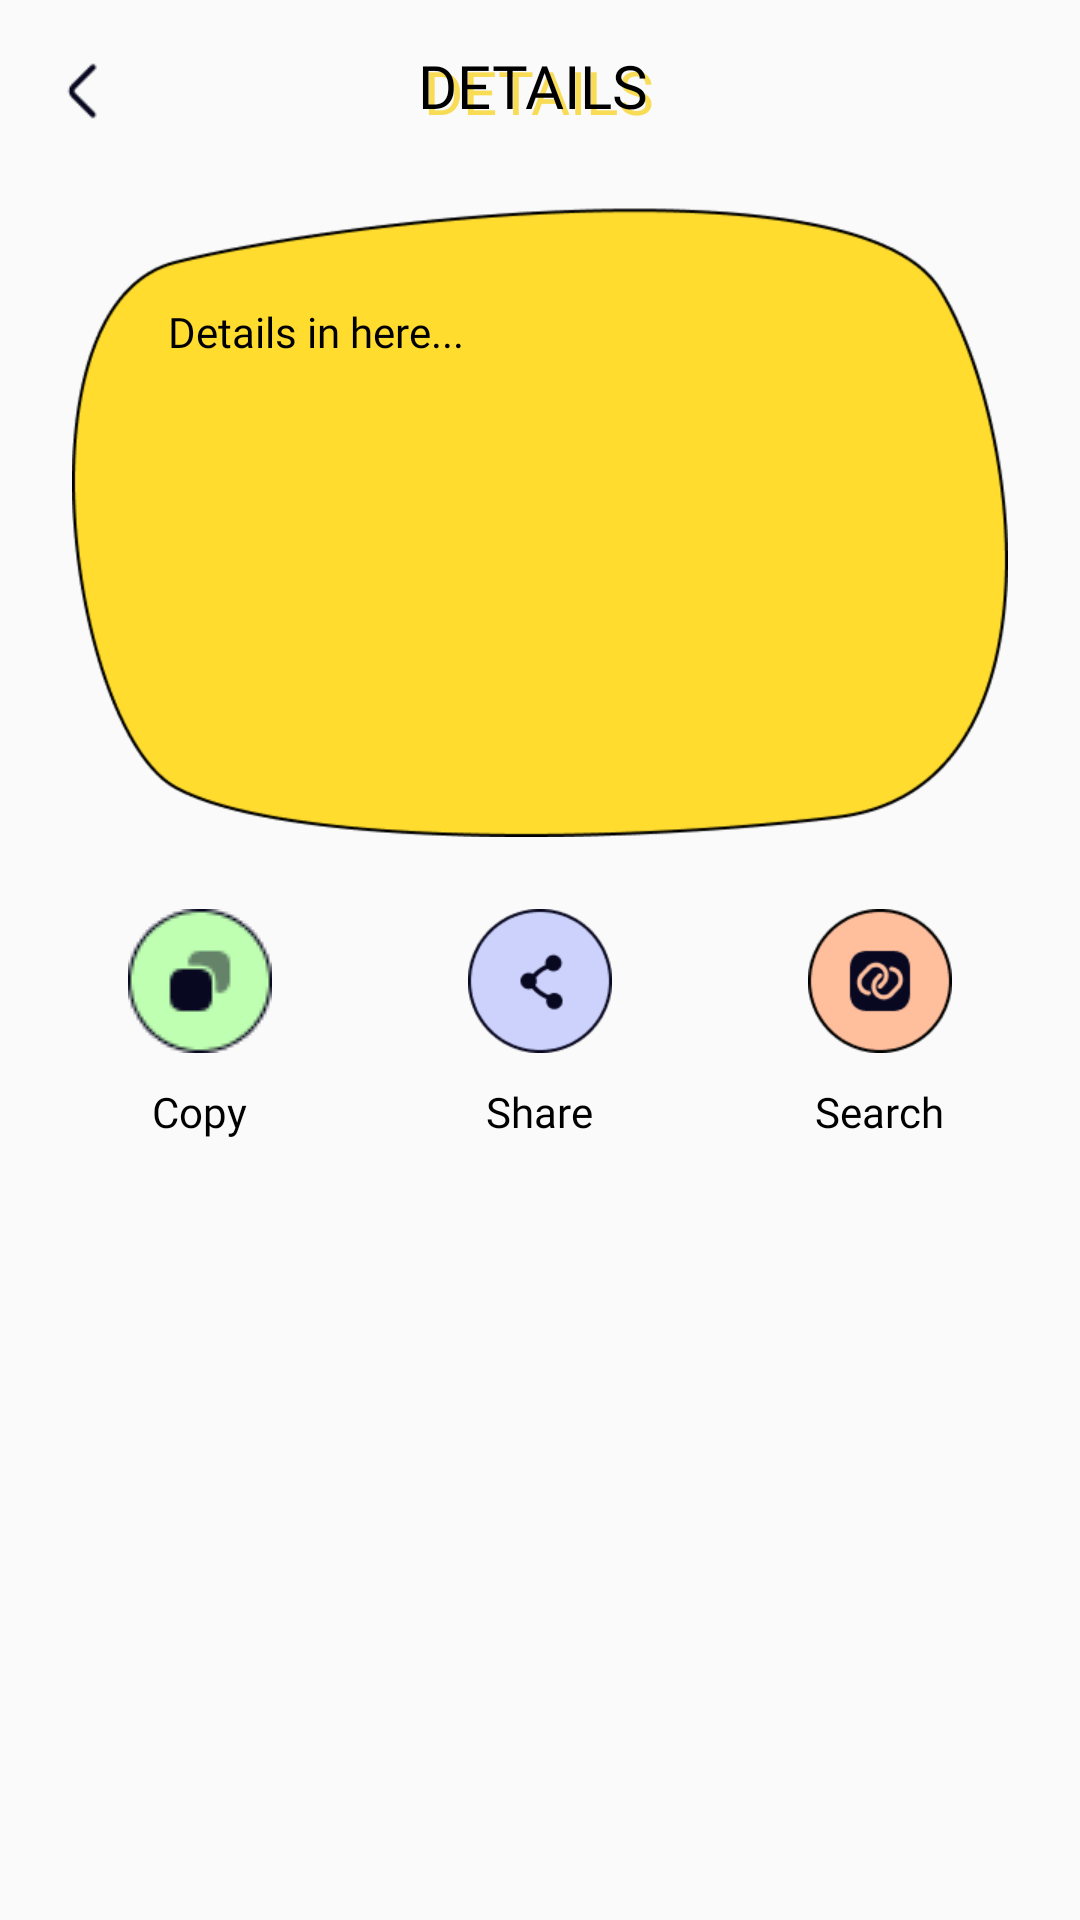

Locate icon controls on the screen. Image size 1080w x 1920h, boxes as (x1, y1, x2, y2).
arrow leftblack: (68, 63, 97, 119)
